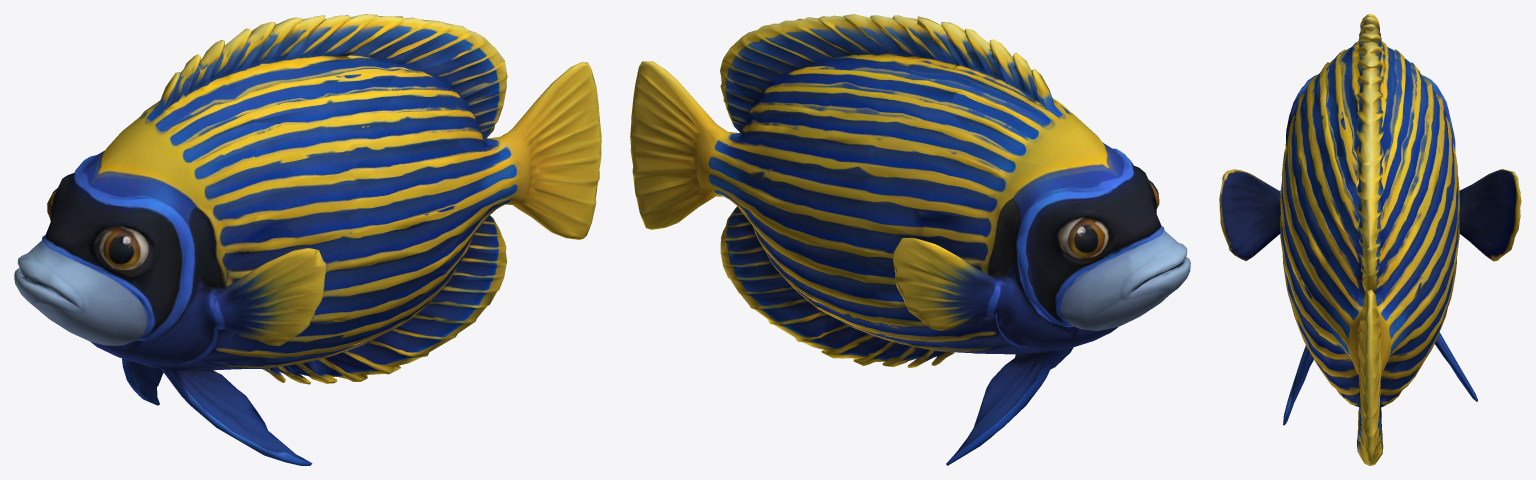
The model's file is fish-imperator.glb.
3 renders of one model, left to right at view 1: azimuth 30°, elevation 25°; view 2: azimuth 150°, elevation 25°; view 3: azimuth 270°, elevation 25°, orthographic. The views are drawn at different scales.
Visible parts, largest first — view 1: tripo_node_10654076-1588-40e1-a63c-1cfd527533db; view 2: tripo_node_10654076-1588-40e1-a63c-1cfd527533db; view 3: tripo_node_10654076-1588-40e1-a63c-1cfd527533db.
Boxes of the visible parts, bbox=[...] form: tripo_node_10654076-1588-40e1-a63c-1cfd527533db: bbox=[14, 14, 601, 465]; tripo_node_10654076-1588-40e1-a63c-1cfd527533db: bbox=[630, 14, 1190, 465]; tripo_node_10654076-1588-40e1-a63c-1cfd527533db: bbox=[1219, 14, 1521, 465].
Bounding box in the file's own units: 1 × 0.6749 × 0.4678.
Materials: 1 (1 with a texture image).
